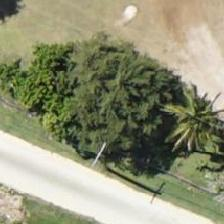coconut_tree: (145, 78, 223, 168)
